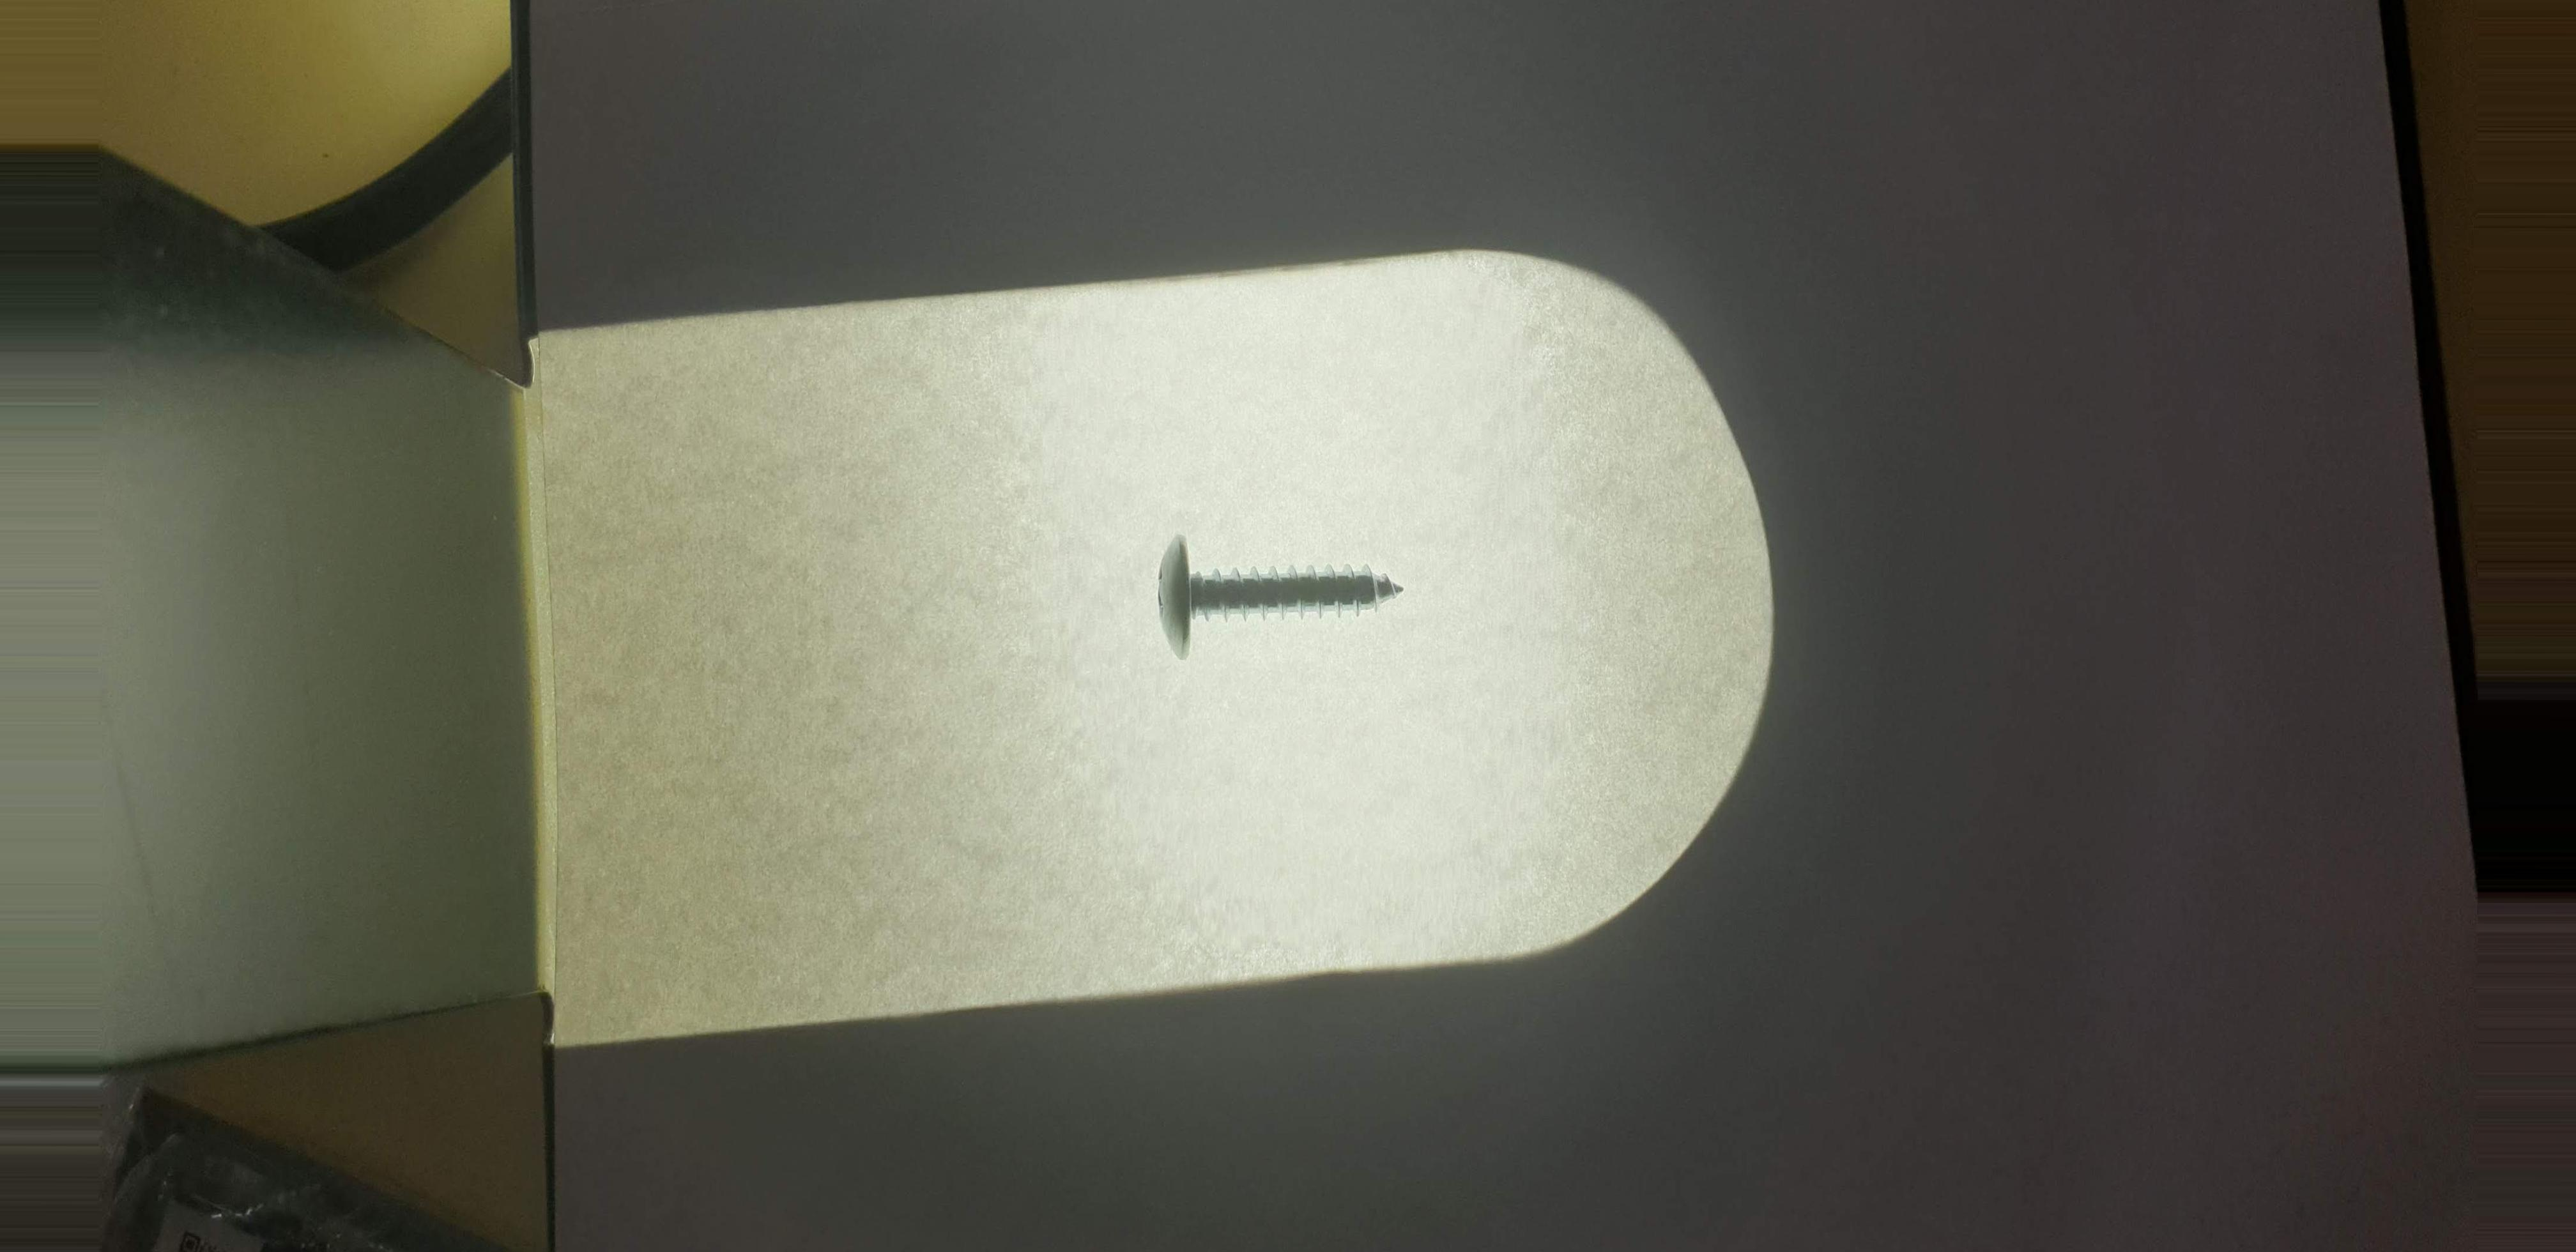S002: (1135, 519, 1433, 665)
